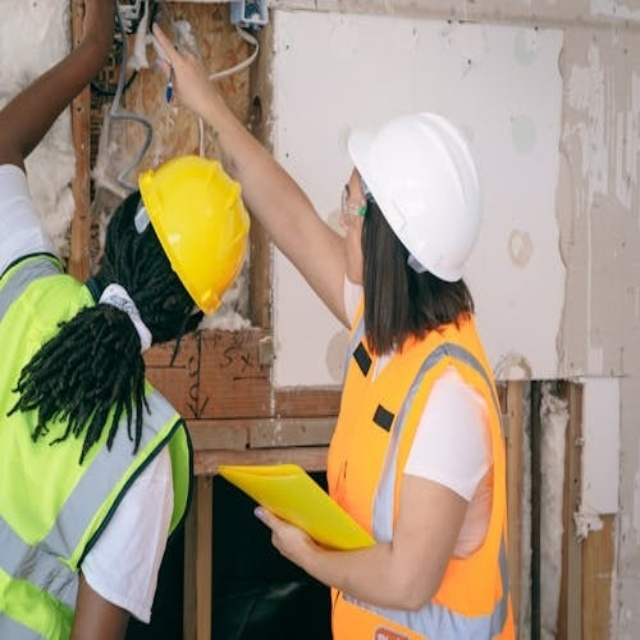Gafas: (338, 176, 378, 222)
Sin_guantes: (150, 31, 219, 114), (252, 507, 318, 569), (74, 3, 115, 68)
Sin_mascara: (337, 225, 360, 283)
